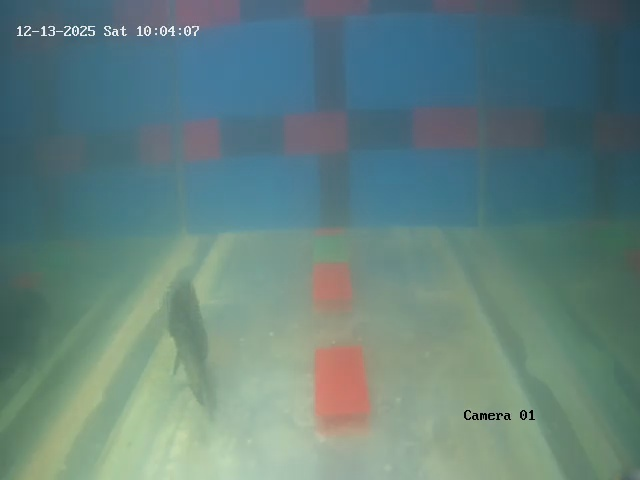fish: (166, 276, 213, 382)
